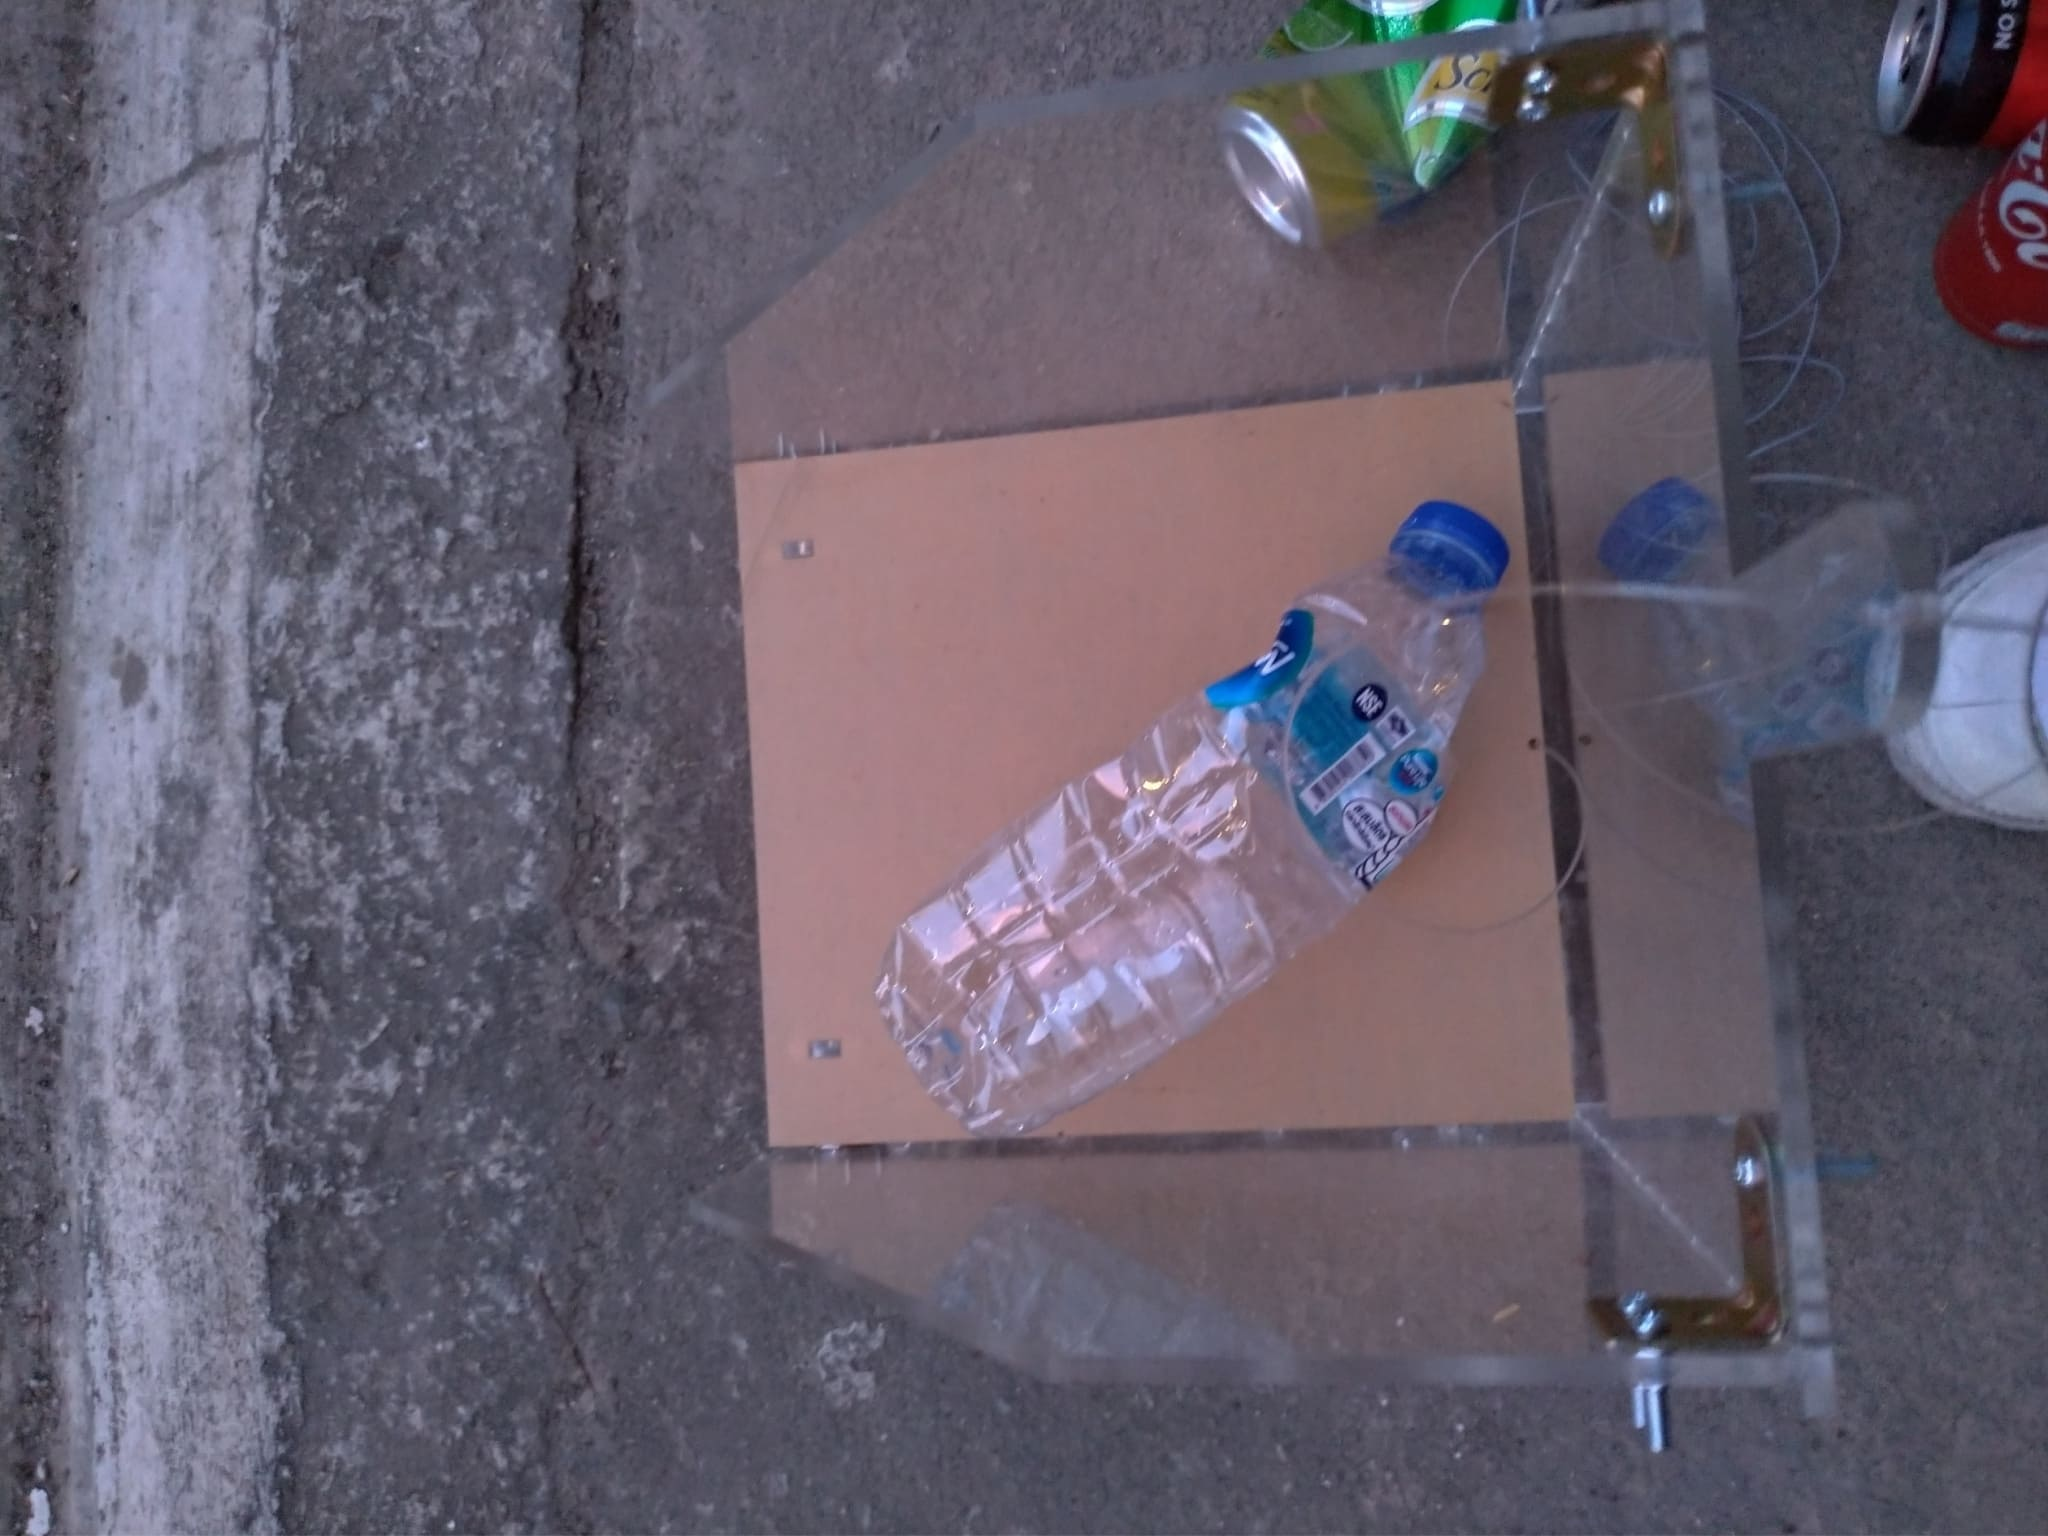AlCan: (1216, 2, 1584, 247), (1864, 2, 2048, 144), (1934, 126, 2048, 352)
PlasticBottle: (877, 495, 1513, 1133)
